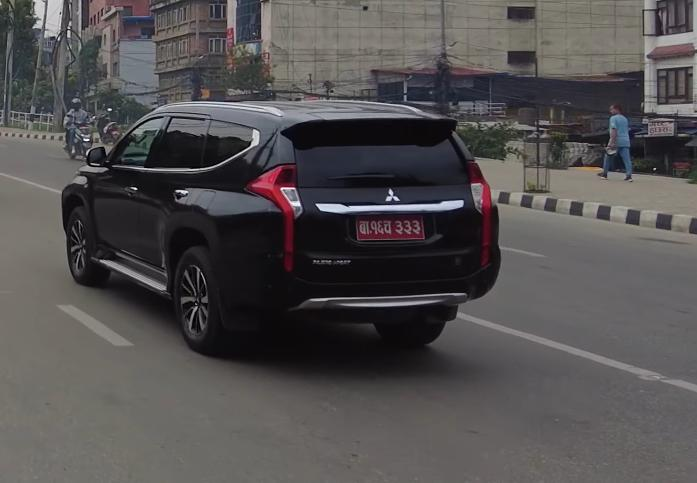SUV: (61, 89, 505, 369)
